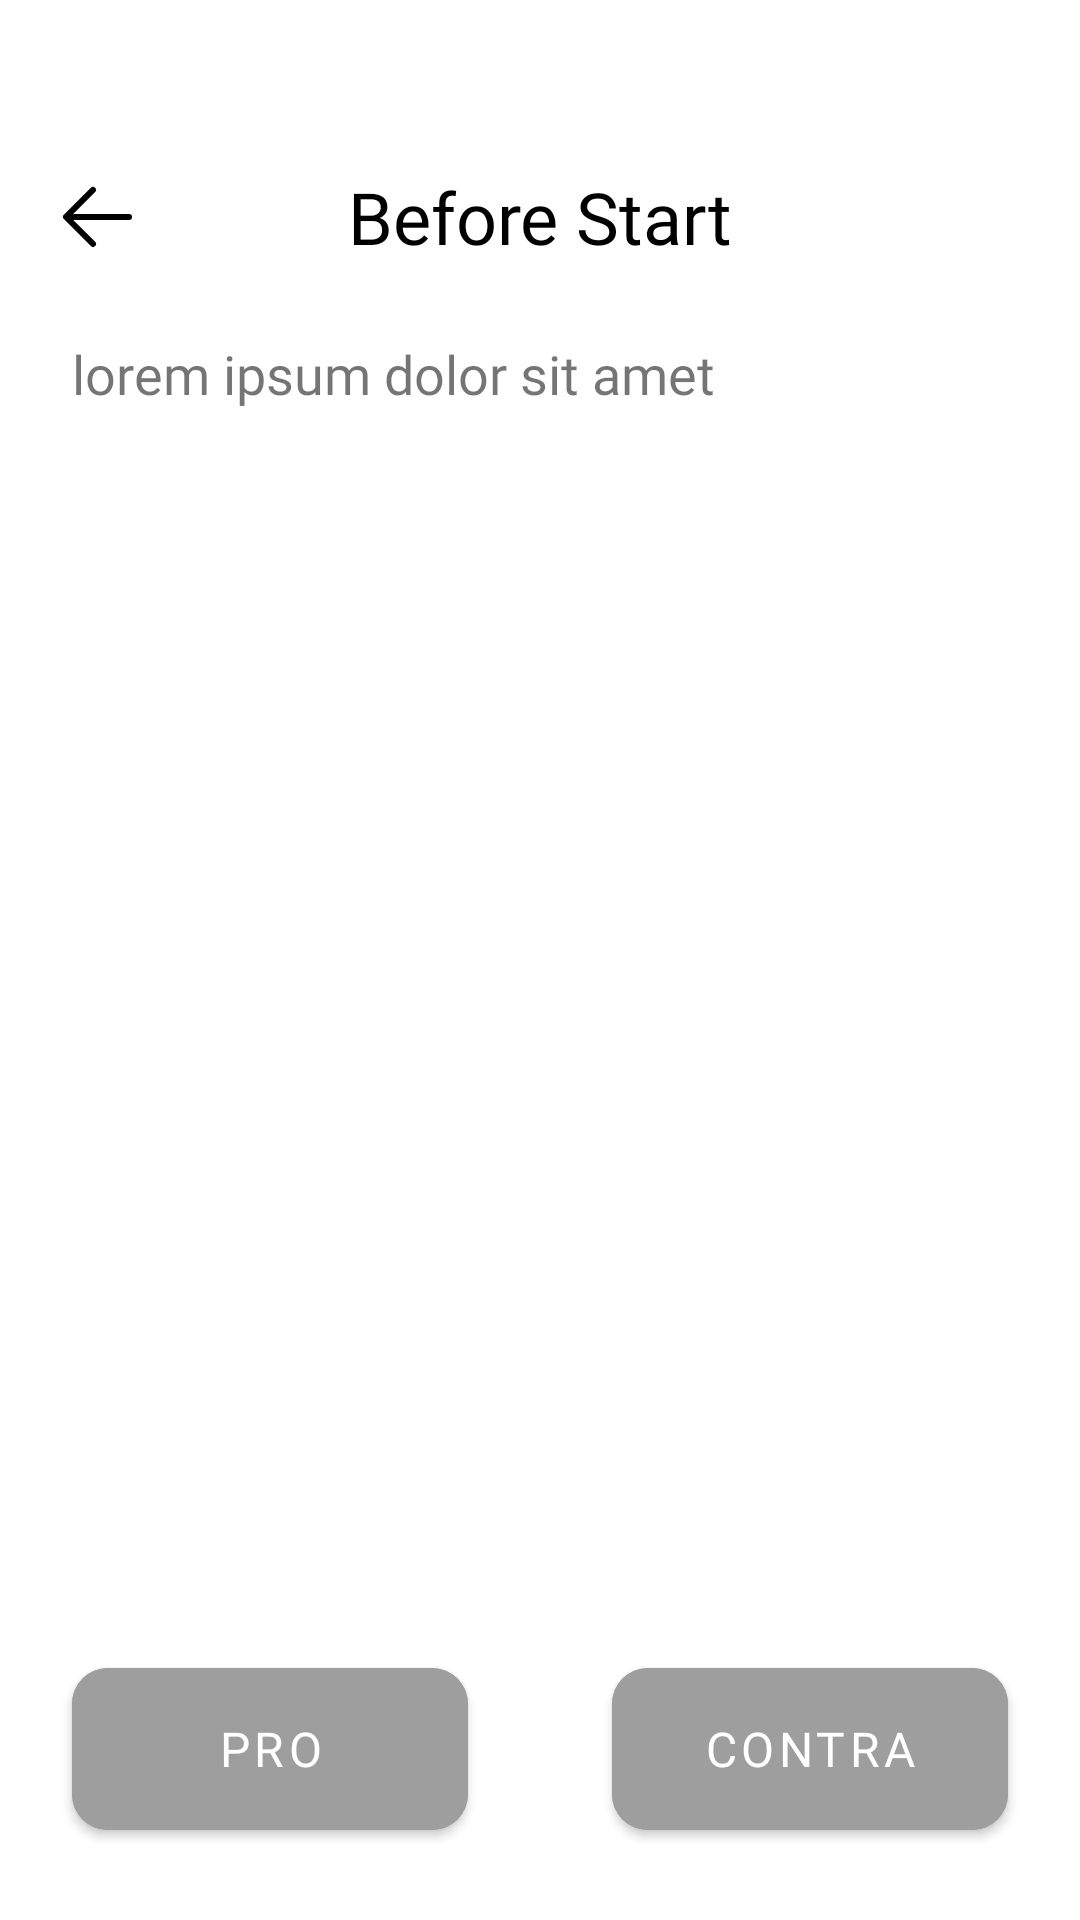

Icons on this 1080w x 1920h Android screen, each with its box as (x1, y1, x2, y2):
back: (62, 186, 132, 247)
